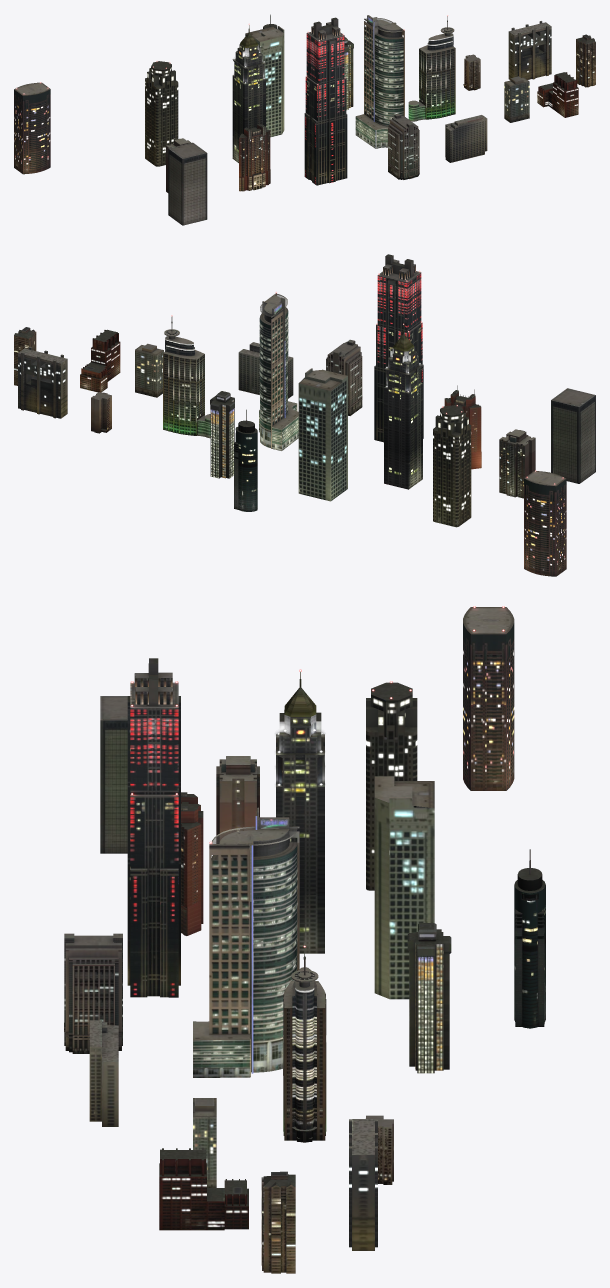
File: asian_themed_low_poly_night_city_buildings.glb
The picture shows the model from 3 angles, top to bottom: view 1: azimuth 30°, elevation 25°; view 2: azimuth 150°, elevation 25°; view 3: azimuth 270°, elevation 25°; orthographic projection. The views are drawn at different scales.
Visible parts, largest first — view 1: BACKGROUND_BUILDINGS_1.001_BACKGROUND_BUILDINGS_1_0, BACKGROUND_BUILDING_2.001_BACKGROUND_BUILDING_2_0; view 2: BACKGROUND_BUILDINGS_1.001_BACKGROUND_BUILDINGS_1_0, BACKGROUND_BUILDING_2.001_BACKGROUND_BUILDING_2_0; view 3: BACKGROUND_BUILDINGS_1.001_BACKGROUND_BUILDINGS_1_0, BACKGROUND_BUILDING_2.001_BACKGROUND_BUILDING_2_0.
Boxes of the visible parts, box(x1,y1,x2,y2) form: BACKGROUND_BUILDINGS_1.001_BACKGROUND_BUILDINGS_1_0: box(14, 14, 595, 225); BACKGROUND_BUILDING_2.001_BACKGROUND_BUILDING_2_0: box(145, 15, 578, 179); BACKGROUND_BUILDINGS_1.001_BACKGROUND_BUILDINGS_1_0: box(14, 254, 595, 576); BACKGROUND_BUILDING_2.001_BACKGROUND_BUILDING_2_0: box(18, 293, 471, 527); BACKGROUND_BUILDINGS_1.001_BACKGROUND_BUILDINGS_1_0: box(100, 607, 545, 1273); BACKGROUND_BUILDING_2.001_BACKGROUND_BUILDING_2_0: box(64, 682, 434, 1250).
Size of the model in its own units: 1049 by 300 by 419.
Materials: 4 (4 with a texture image).
